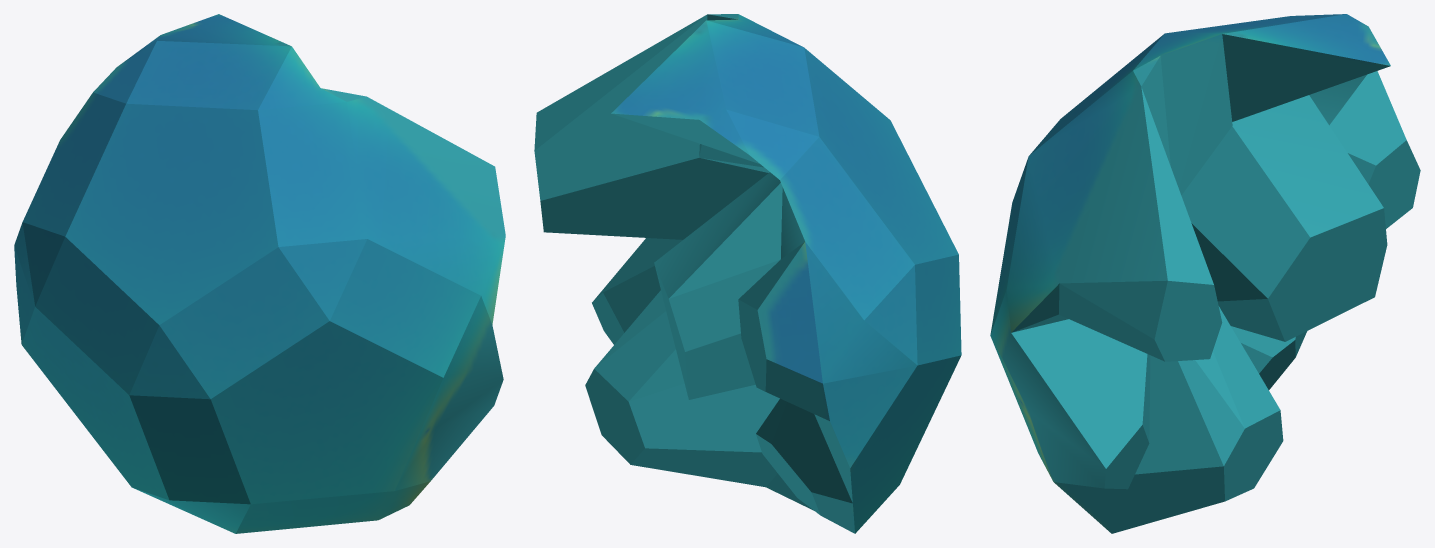
File: p_mesh_quartz_part01.fbx
3 renders of one model, left to right at view 1: azimuth 30°, elevation 25°; view 2: azimuth 150°, elevation 25°; view 3: azimuth 270°, elevation 25°, orthographic. The views are drawn at different scales.
Parts seen in each view (by area): view 1: p_quartz_part01_lp; view 2: p_quartz_part01_lp; view 3: p_quartz_part01_lp.
Part boxes in pixels (x1,y1,x2,y2): p_quartz_part01_lp: (14,14,505,533); p_quartz_part01_lp: (534,14,961,533); p_quartz_part01_lp: (990,14,1420,533).
Bounding box in the file's own units: 4.11 × 4.38 × 3.59.
